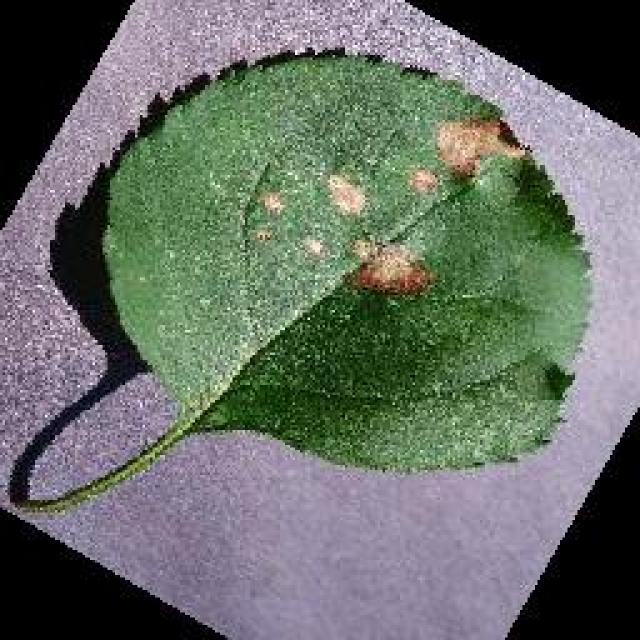Black_rot: (5, 45, 595, 515)
